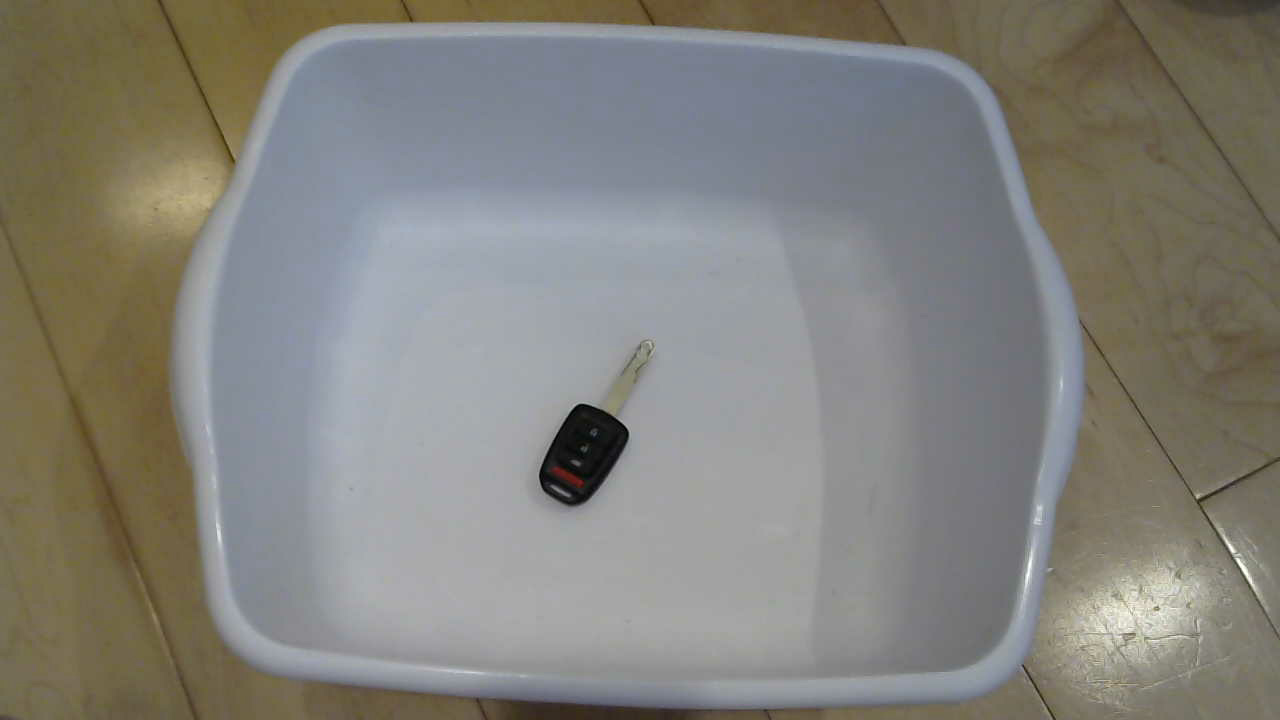key: (521, 338, 675, 512)
